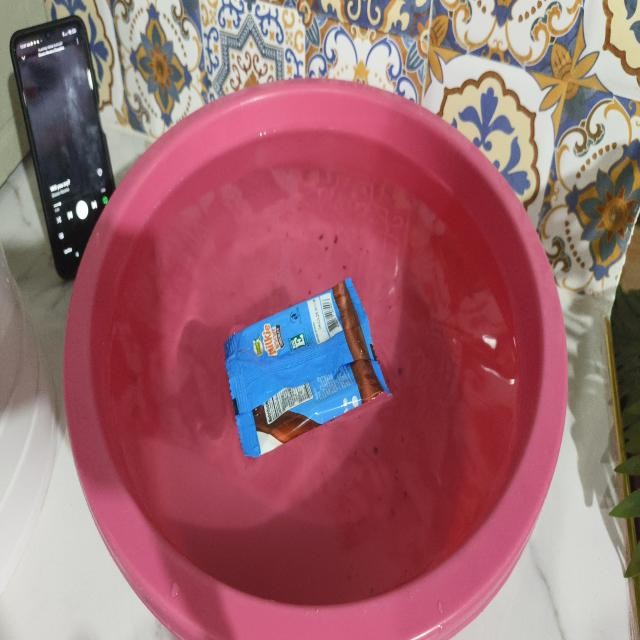Plastic Wrapper: (224, 278, 389, 457)
